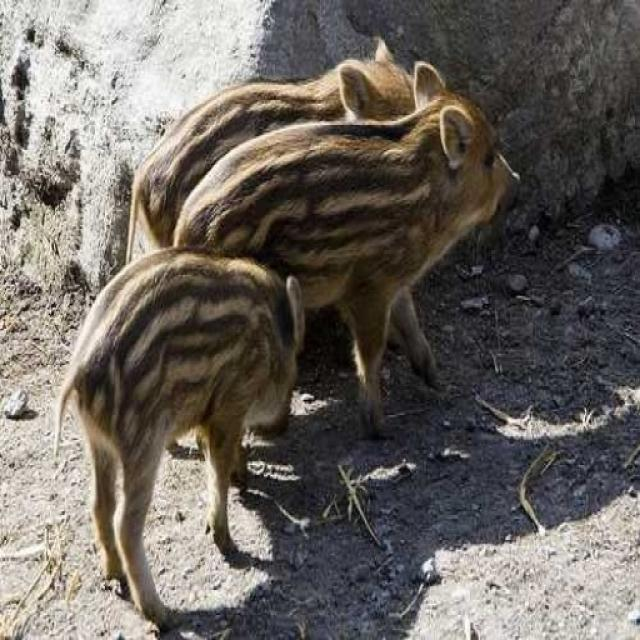pig: (148, 99, 568, 436), (26, 240, 346, 634)
